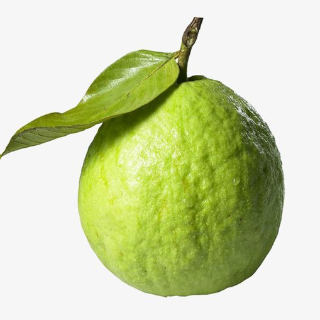oi: (80, 76, 281, 295)
